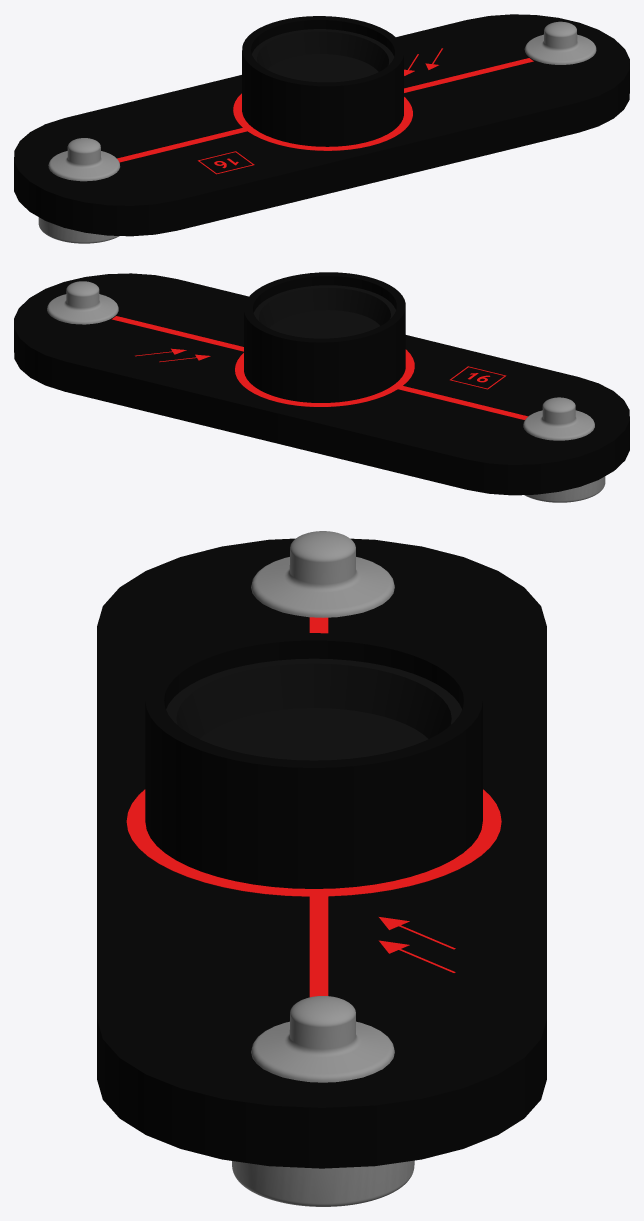
The model's file is PhotosensitiveResistor.FBX.
The picture shows the model from 3 angles, top to bottom: view 1: azimuth 30°, elevation 25°; view 2: azimuth 150°, elevation 25°; view 3: azimuth 270°, elevation 25°; orthographic projection. The views are drawn at different scales.
Visible parts, largest first — view 1: Base, Obj (×2), ButtonUp (×2), Text, ButtonDown; view 2: Base, Obj (×2), ButtonUp (×2), Text, ButtonDown; view 3: Base, Obj (×2), ButtonUp (×2), Text, ButtonDown.
Part boxes in pixels (x1,y1,x2,y2): Base: (14, 14, 629, 236); Obj (×2): (242, 16, 403, 146); ButtonUp (×2): (48, 21, 596, 181); Text: (117, 58, 533, 162); ButtonDown: (38, 217, 119, 243); Base: (14, 273, 629, 495); Obj (×2): (244, 272, 405, 402); ButtonUp (×2): (47, 281, 594, 440); Text: (111, 316, 527, 420); ButtonDown: (524, 476, 605, 502); Base: (97, 538, 546, 1168); Obj (×2): (145, 633, 482, 888); ButtonUp (×2): (251, 531, 394, 1082); Text: (126, 617, 501, 997); ButtonDown: (232, 1160, 414, 1206).
Bounding box in the file's own units: 97.79 × 18.82 × 32.6.
